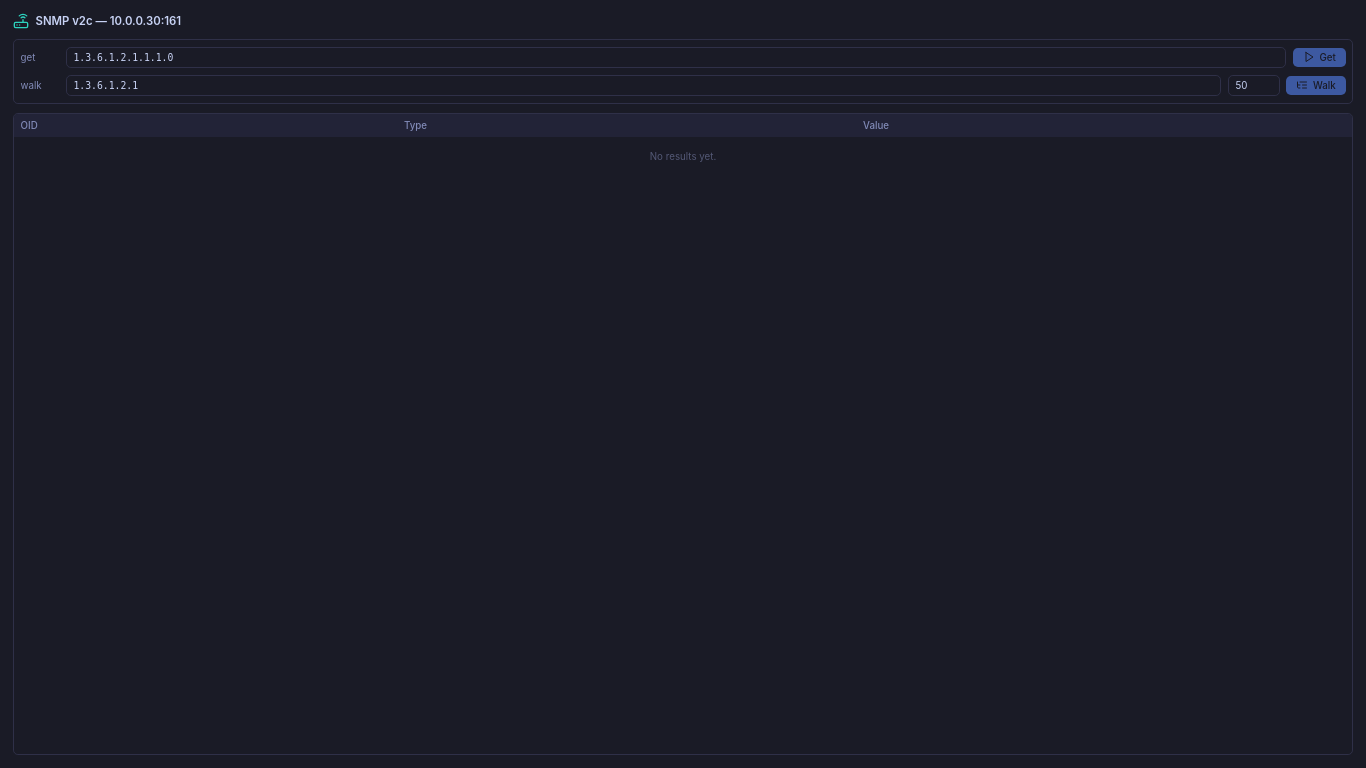
SnmpBrowser › runs a GET and displays the typed result
expect the heading "SNMP v2c — 10.0.0.30:161" is shown: met, box [13,13,181,29]
What coordinates should you click on to do the following:
click the button "Get"
I would click on:
 (1319, 57)
Its box is [1293,48,1346,67].
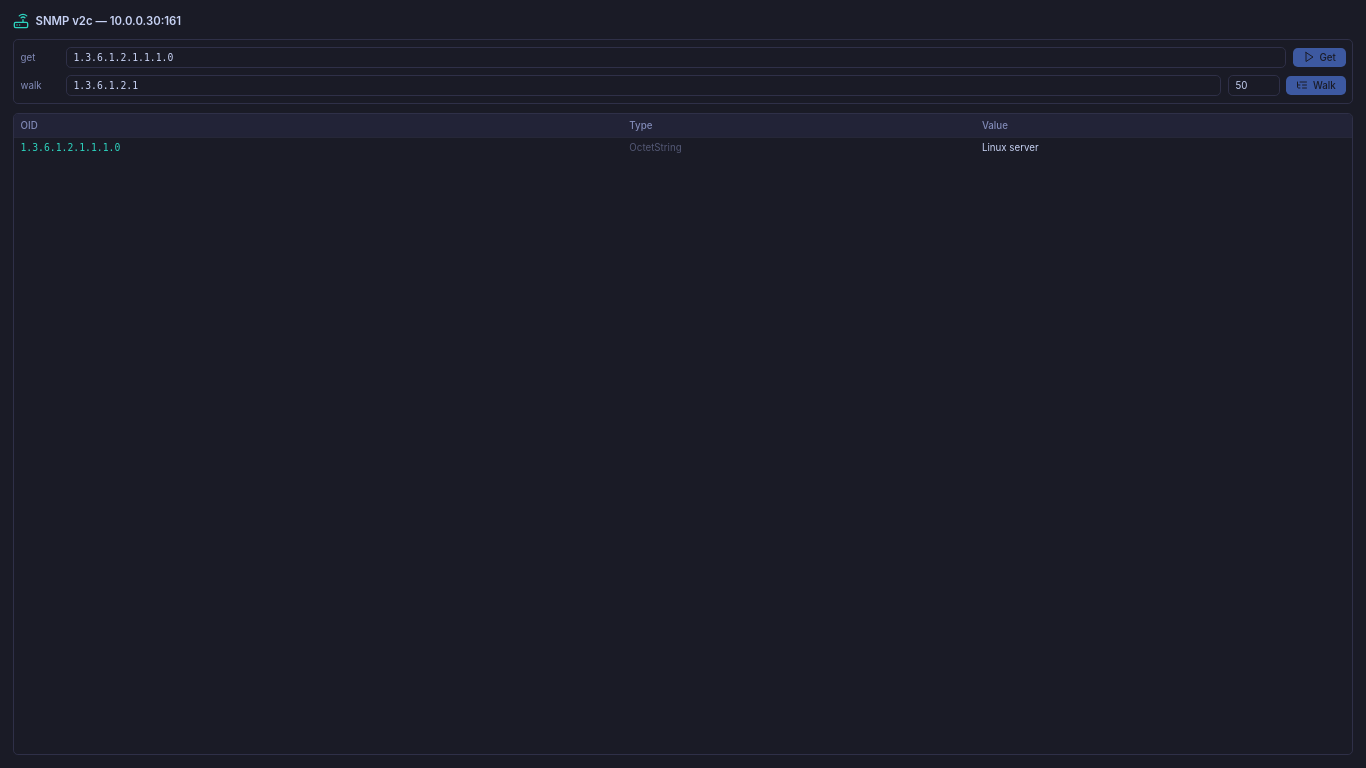
expect the text "Linux server" is shown: met, box [975,138,1352,158]
expect the text "OctetString" is shown: met, box [623,138,975,158]
